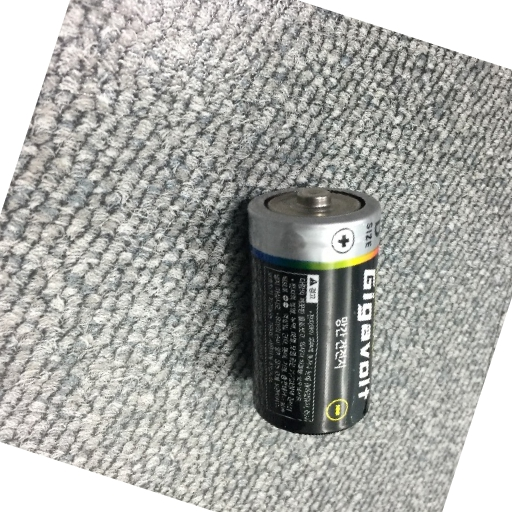Battery_0: (230, 171, 396, 448)
